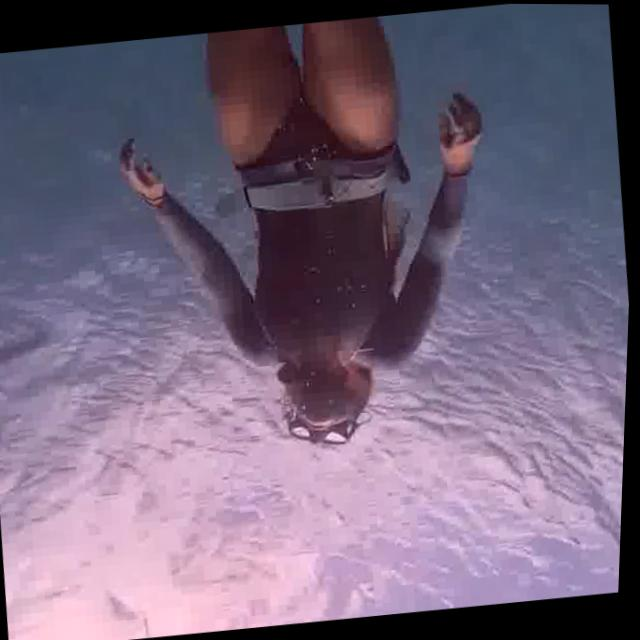human: (95, 3, 527, 485), (0, 190, 75, 524)
